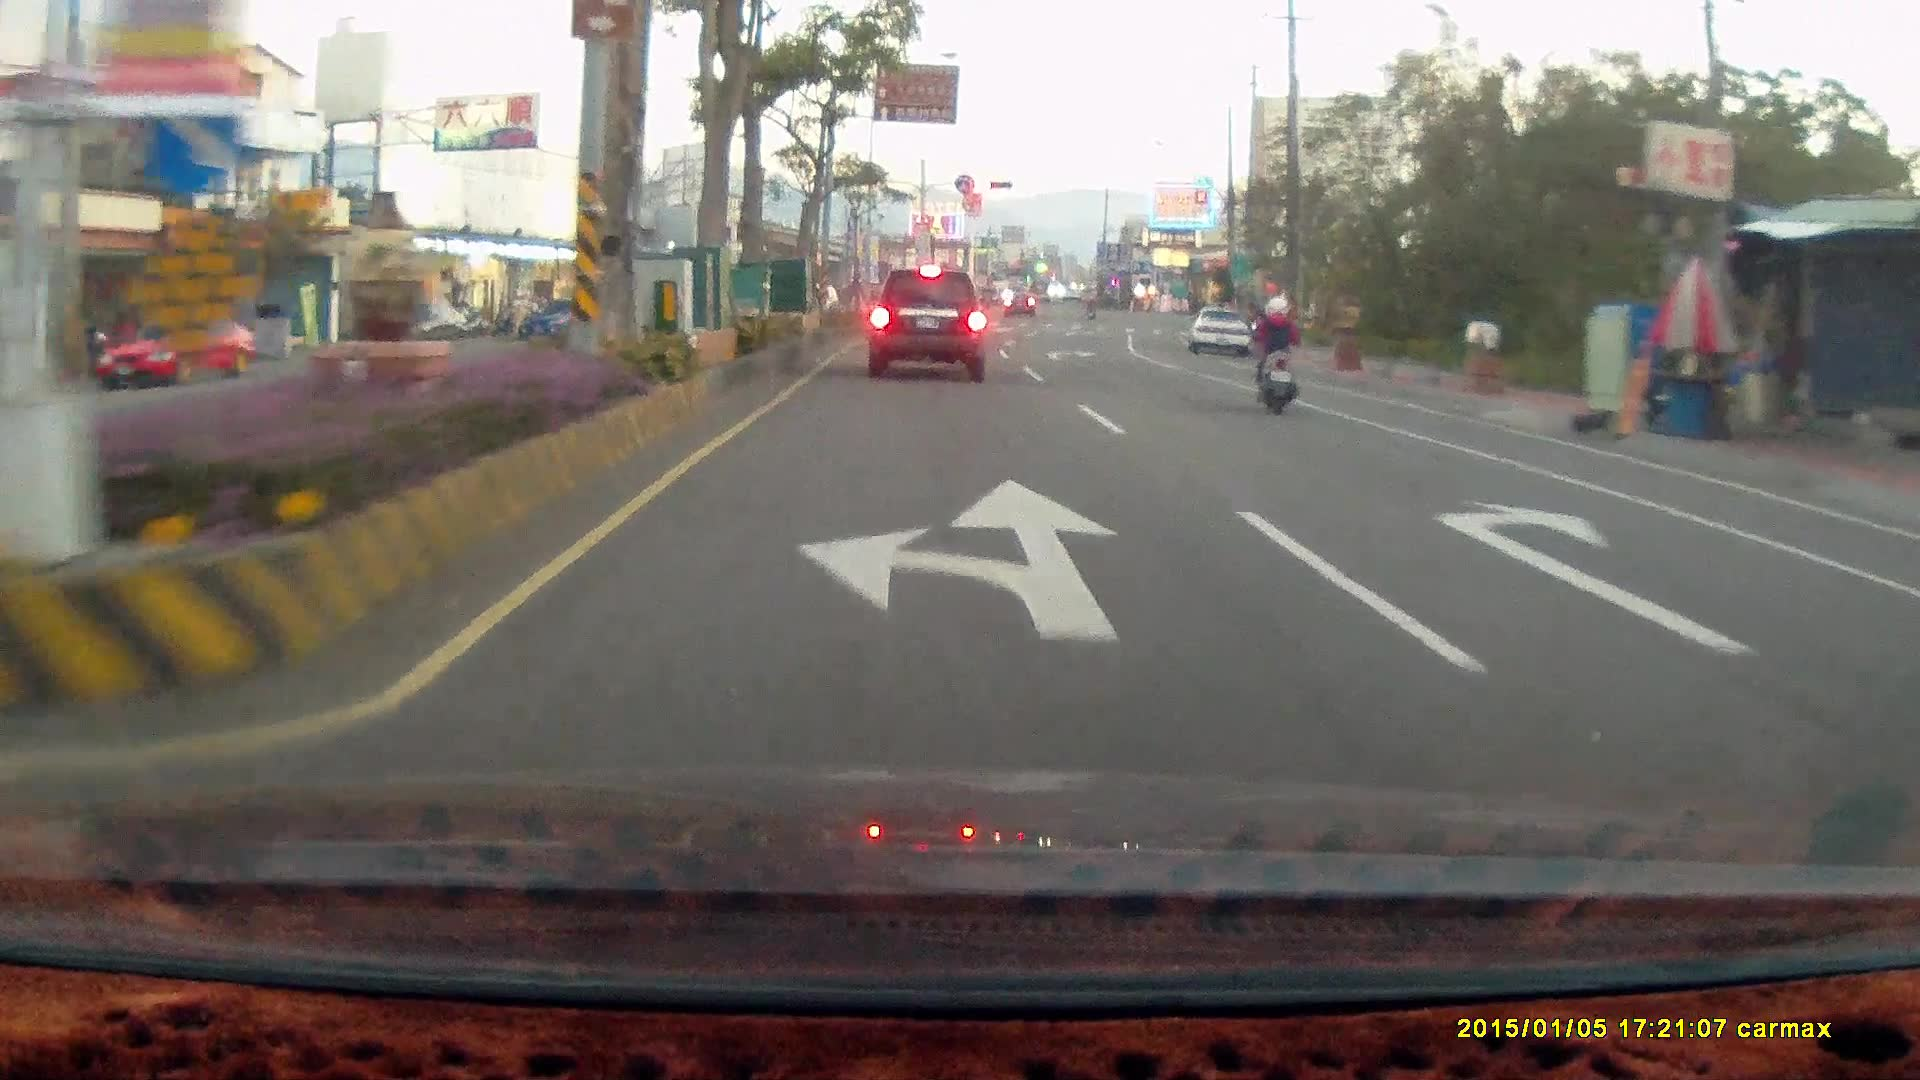rider: (1248, 291, 1302, 416)
vehicle: (868, 266, 984, 381), (104, 305, 254, 385), (1896, 493, 1920, 836), (1883, 528, 1920, 690), (369, 301, 476, 352), (1187, 305, 1251, 359), (1187, 303, 1252, 356)
